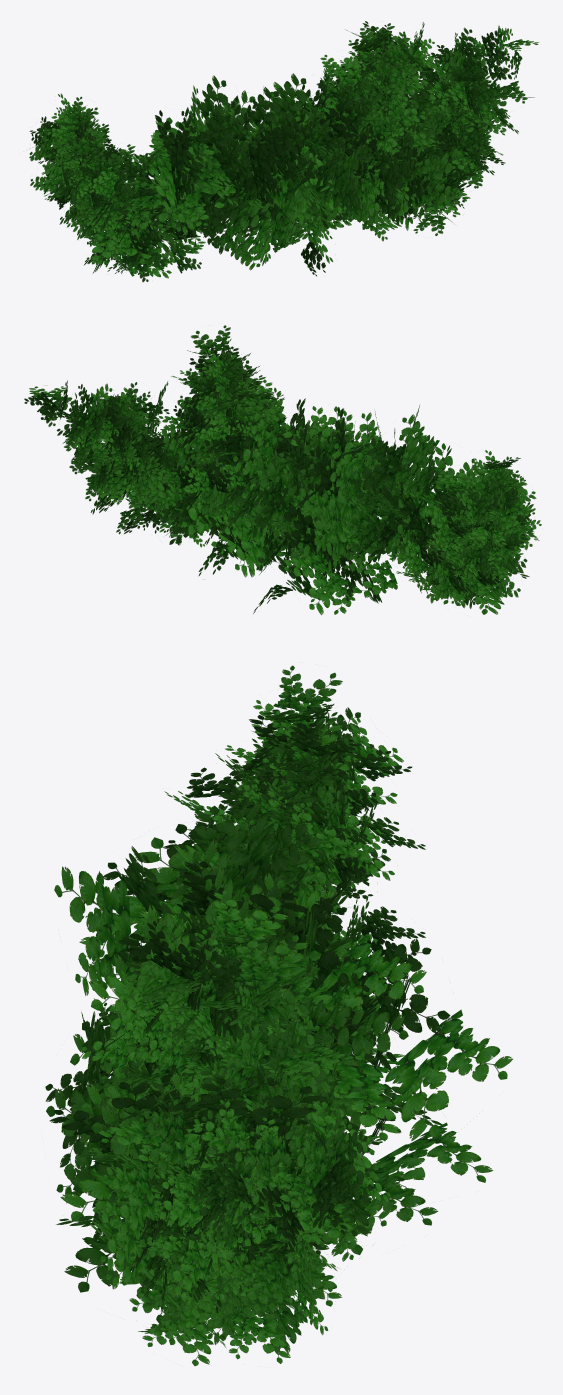
File: bush.glb
The picture shows the model from 3 angles, top to bottom: view 1: azimuth 30°, elevation 25°; view 2: azimuth 150°, elevation 25°; view 3: azimuth 270°, elevation 25°; orthographic projection. The views are drawn at different scales.
Visible parts, largest first — view 1: leaves_Leaves_0.002; view 2: leaves_Leaves_0.002; view 3: leaves_Leaves_0.002.
Boxes of the visible parts, x1=… form: leaves_Leaves_0.002: x1=29, y1=21, x2=539, y2=282; leaves_Leaves_0.002: x1=24, y1=325, x2=541, y2=615; leaves_Leaves_0.002: x1=45, y1=665, x2=512, y2=1365.
Size of the model in its own units: 2.99 by 1.21 by 1.4.
1 material, 1 textured.
